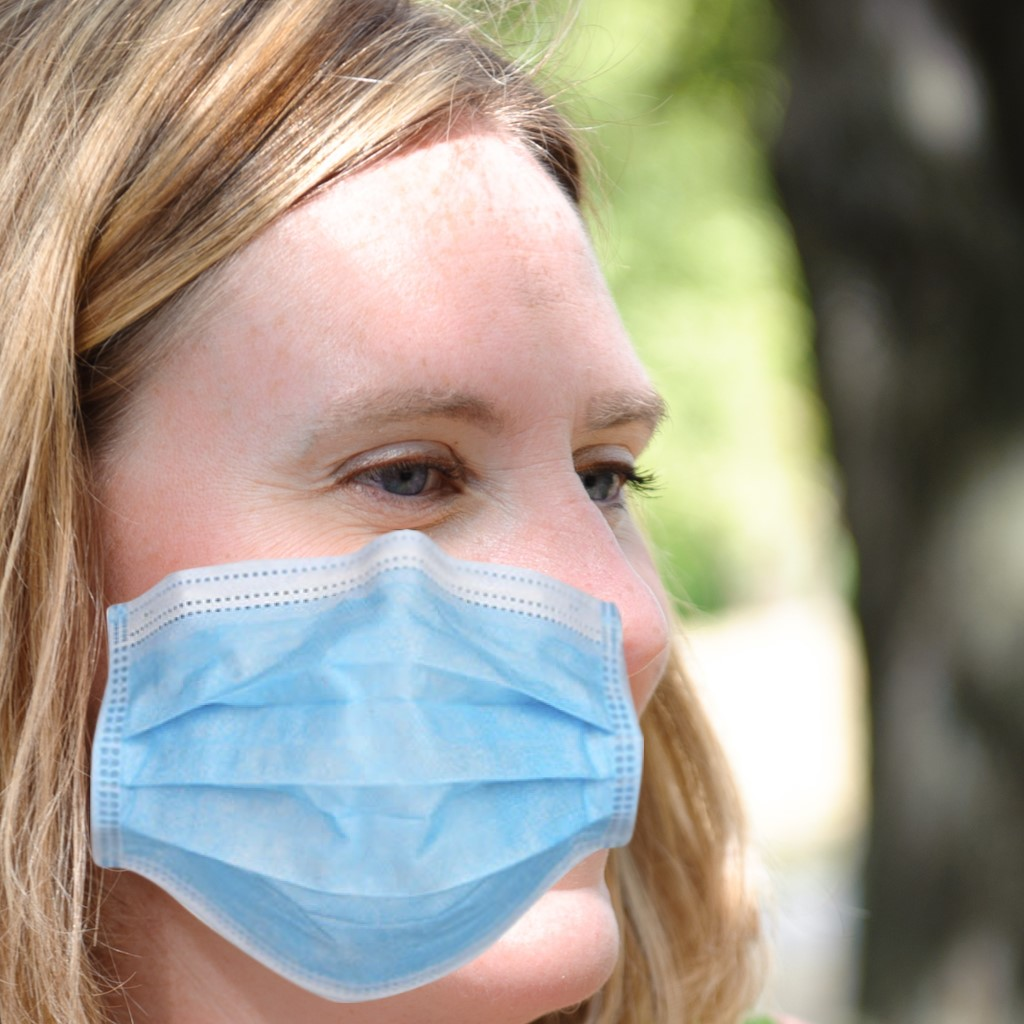con_mascara: (15, 54, 700, 1006)
